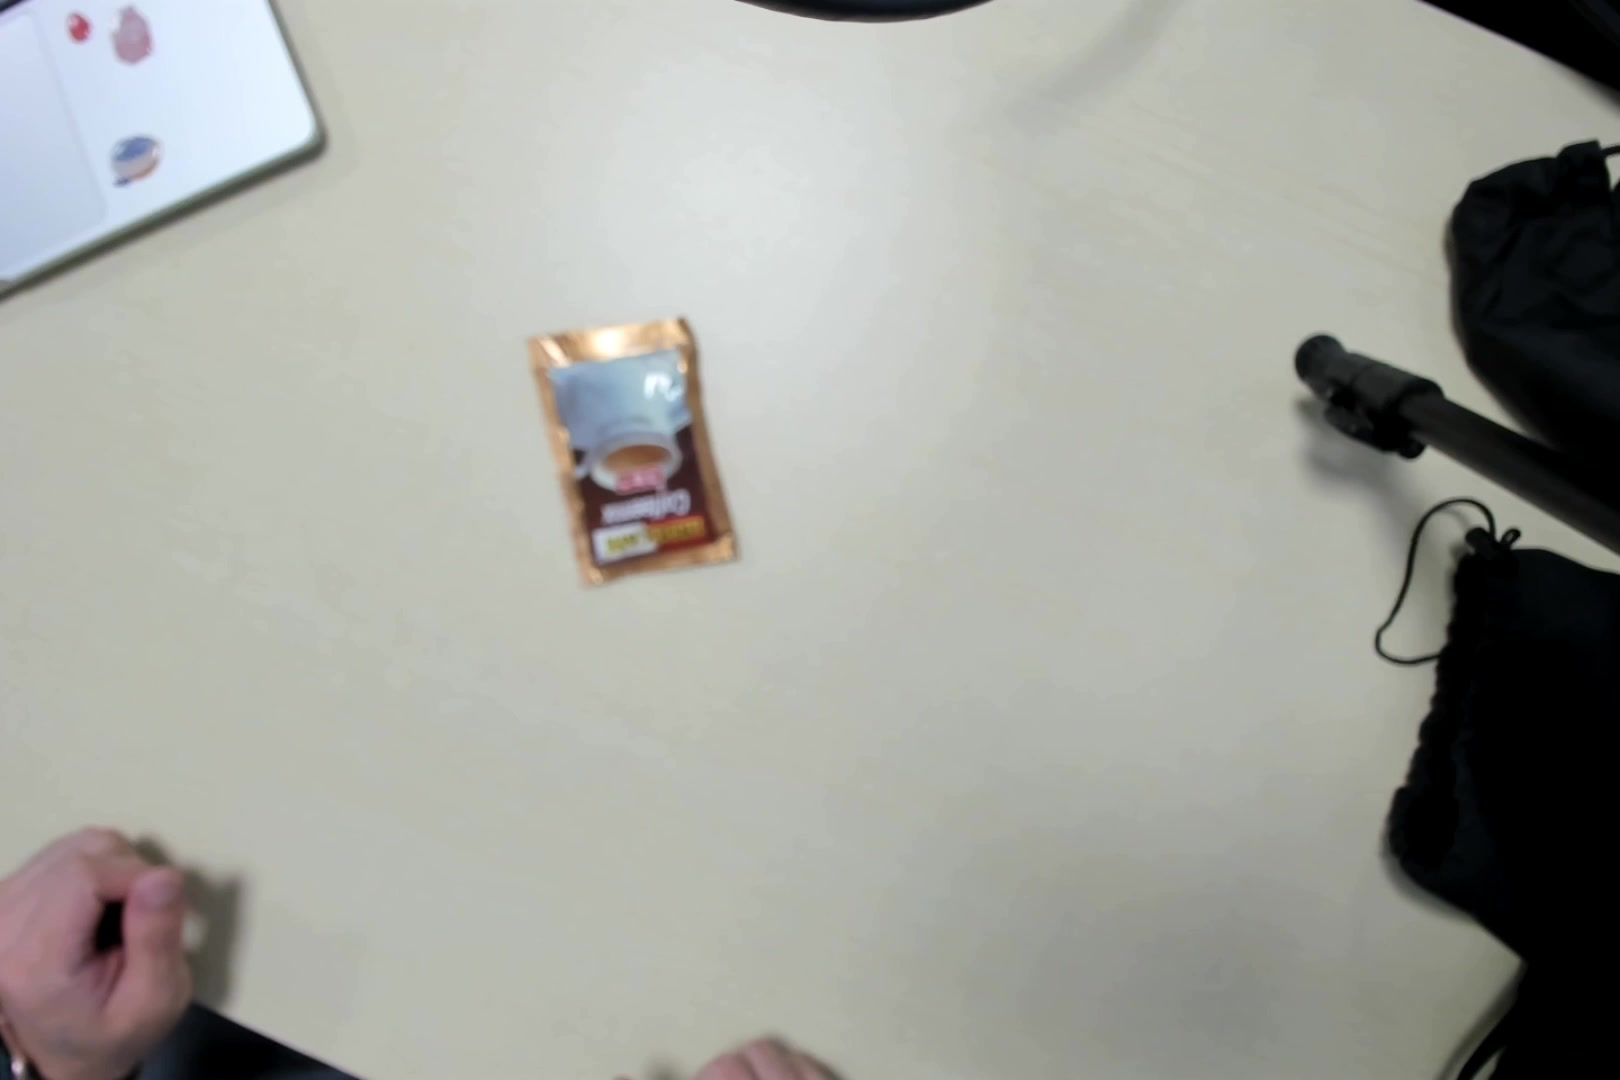Coffee(Powder)_0-99g_NonHalal_NonHealthy: (533, 321, 742, 577)
